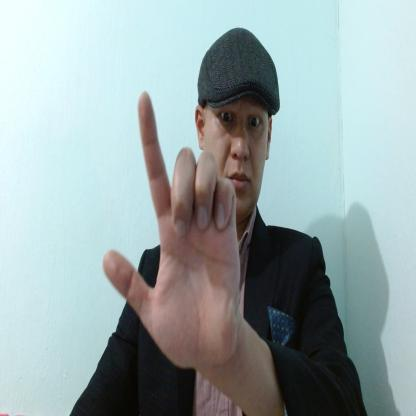L: (102, 92, 240, 371)
